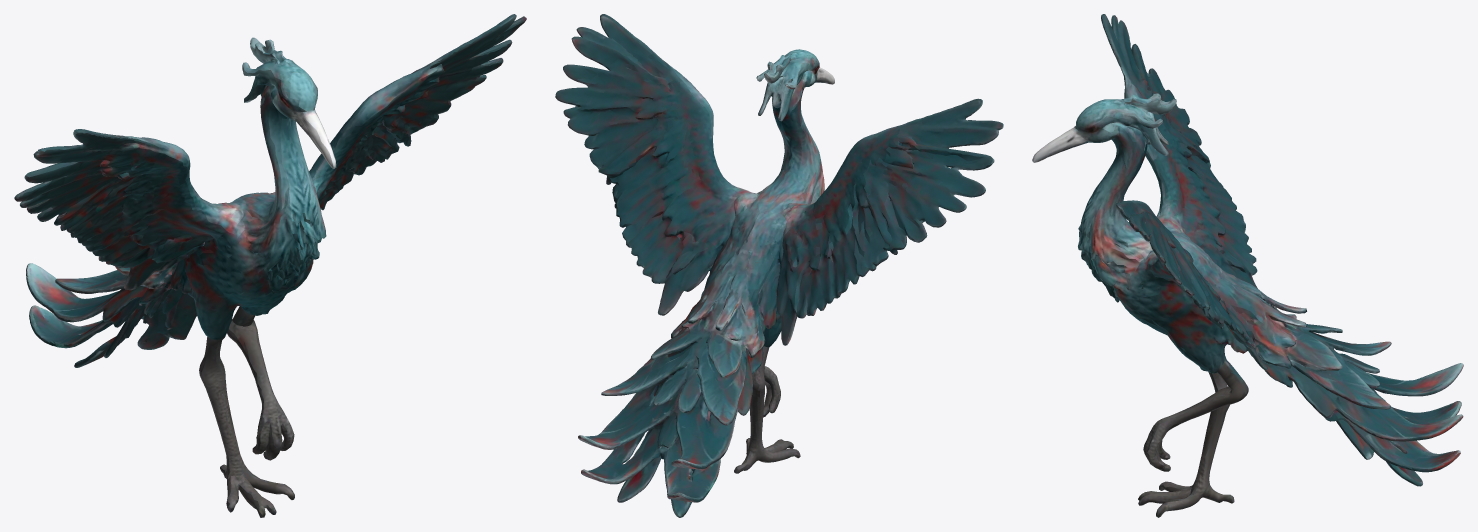
File: bifang.glb
3 renders of one model, left to right at view 1: azimuth 30°, elevation 25°; view 2: azimuth 150°, elevation 25°; view 3: azimuth 270°, elevation 25°, orthographic. The views are drawn at different scales.
Parts seen in each view (by area): view 1: geometry_0; view 2: geometry_0; view 3: geometry_0.
Boxes of the visible parts, left/top/right/bottom form: geometry_0: left=14, top=14, right=526, bottom=517; geometry_0: left=555, top=14, right=1003, bottom=517; geometry_0: left=1032, top=14, right=1463, bottom=517.
Size of the model in its own units: 2.95 by 2.62 by 2.5.
Materials: 1 (1 with a texture image).
